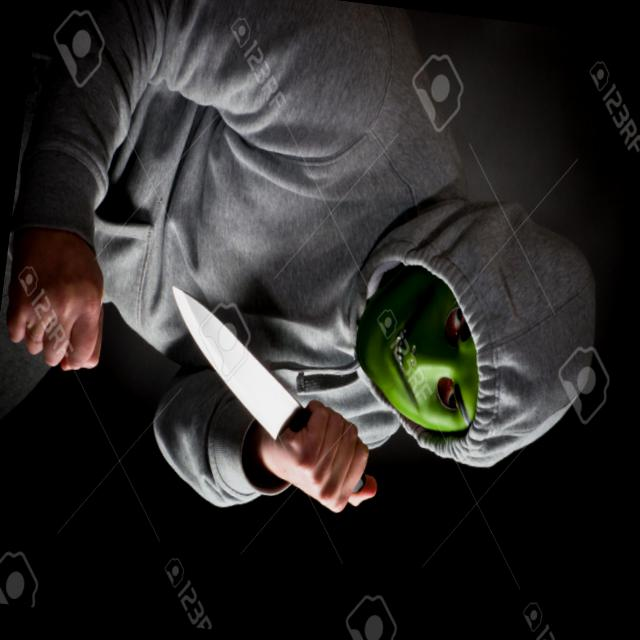knife: (134, 276, 372, 518)
